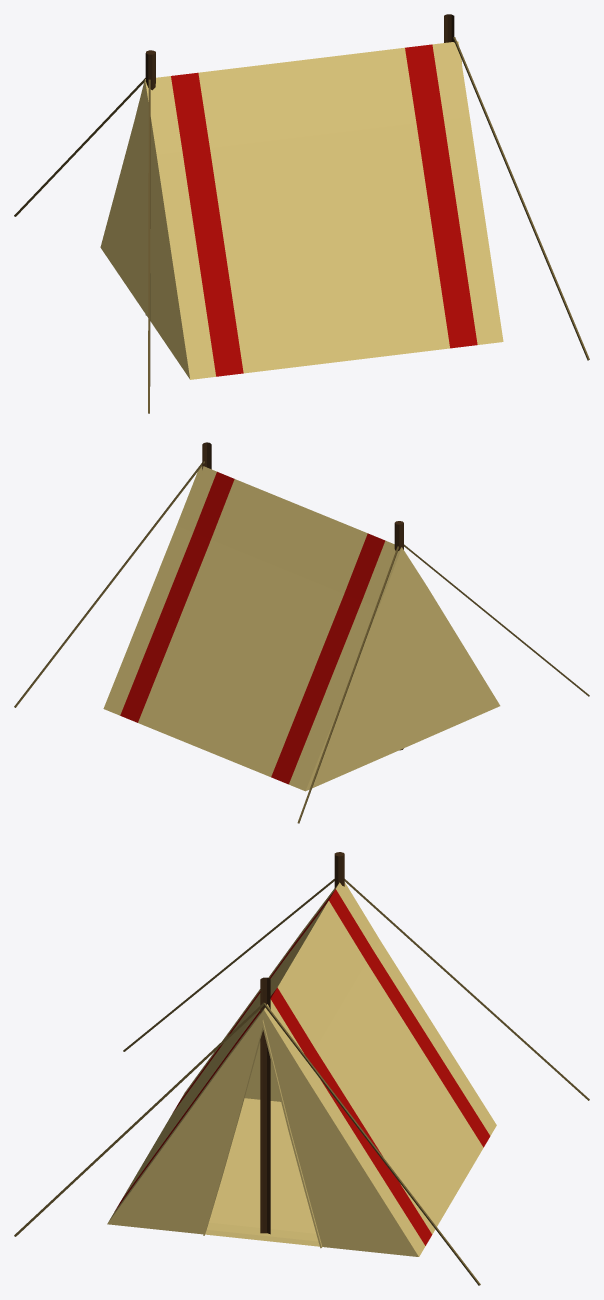
The model's file is cabaña.fbx.
The picture shows the model from 3 angles, top to bottom: view 1: azimuth 30°, elevation 25°; view 2: azimuth 150°, elevation 25°; view 3: azimuth 270°, elevation 25°; orthographic projection. The views are drawn at different scales.
Visible parts, largest first — view 1: Plane.010; view 2: Plane.010; view 3: Plane.010.
Part boxes in pixels (bbox=[...]): Plane.010: bbox=[14, 14, 589, 413]; Plane.010: bbox=[14, 442, 589, 823]; Plane.010: bbox=[14, 852, 589, 1285].
Size of the model in its own units: 346 by 177 by 358.
